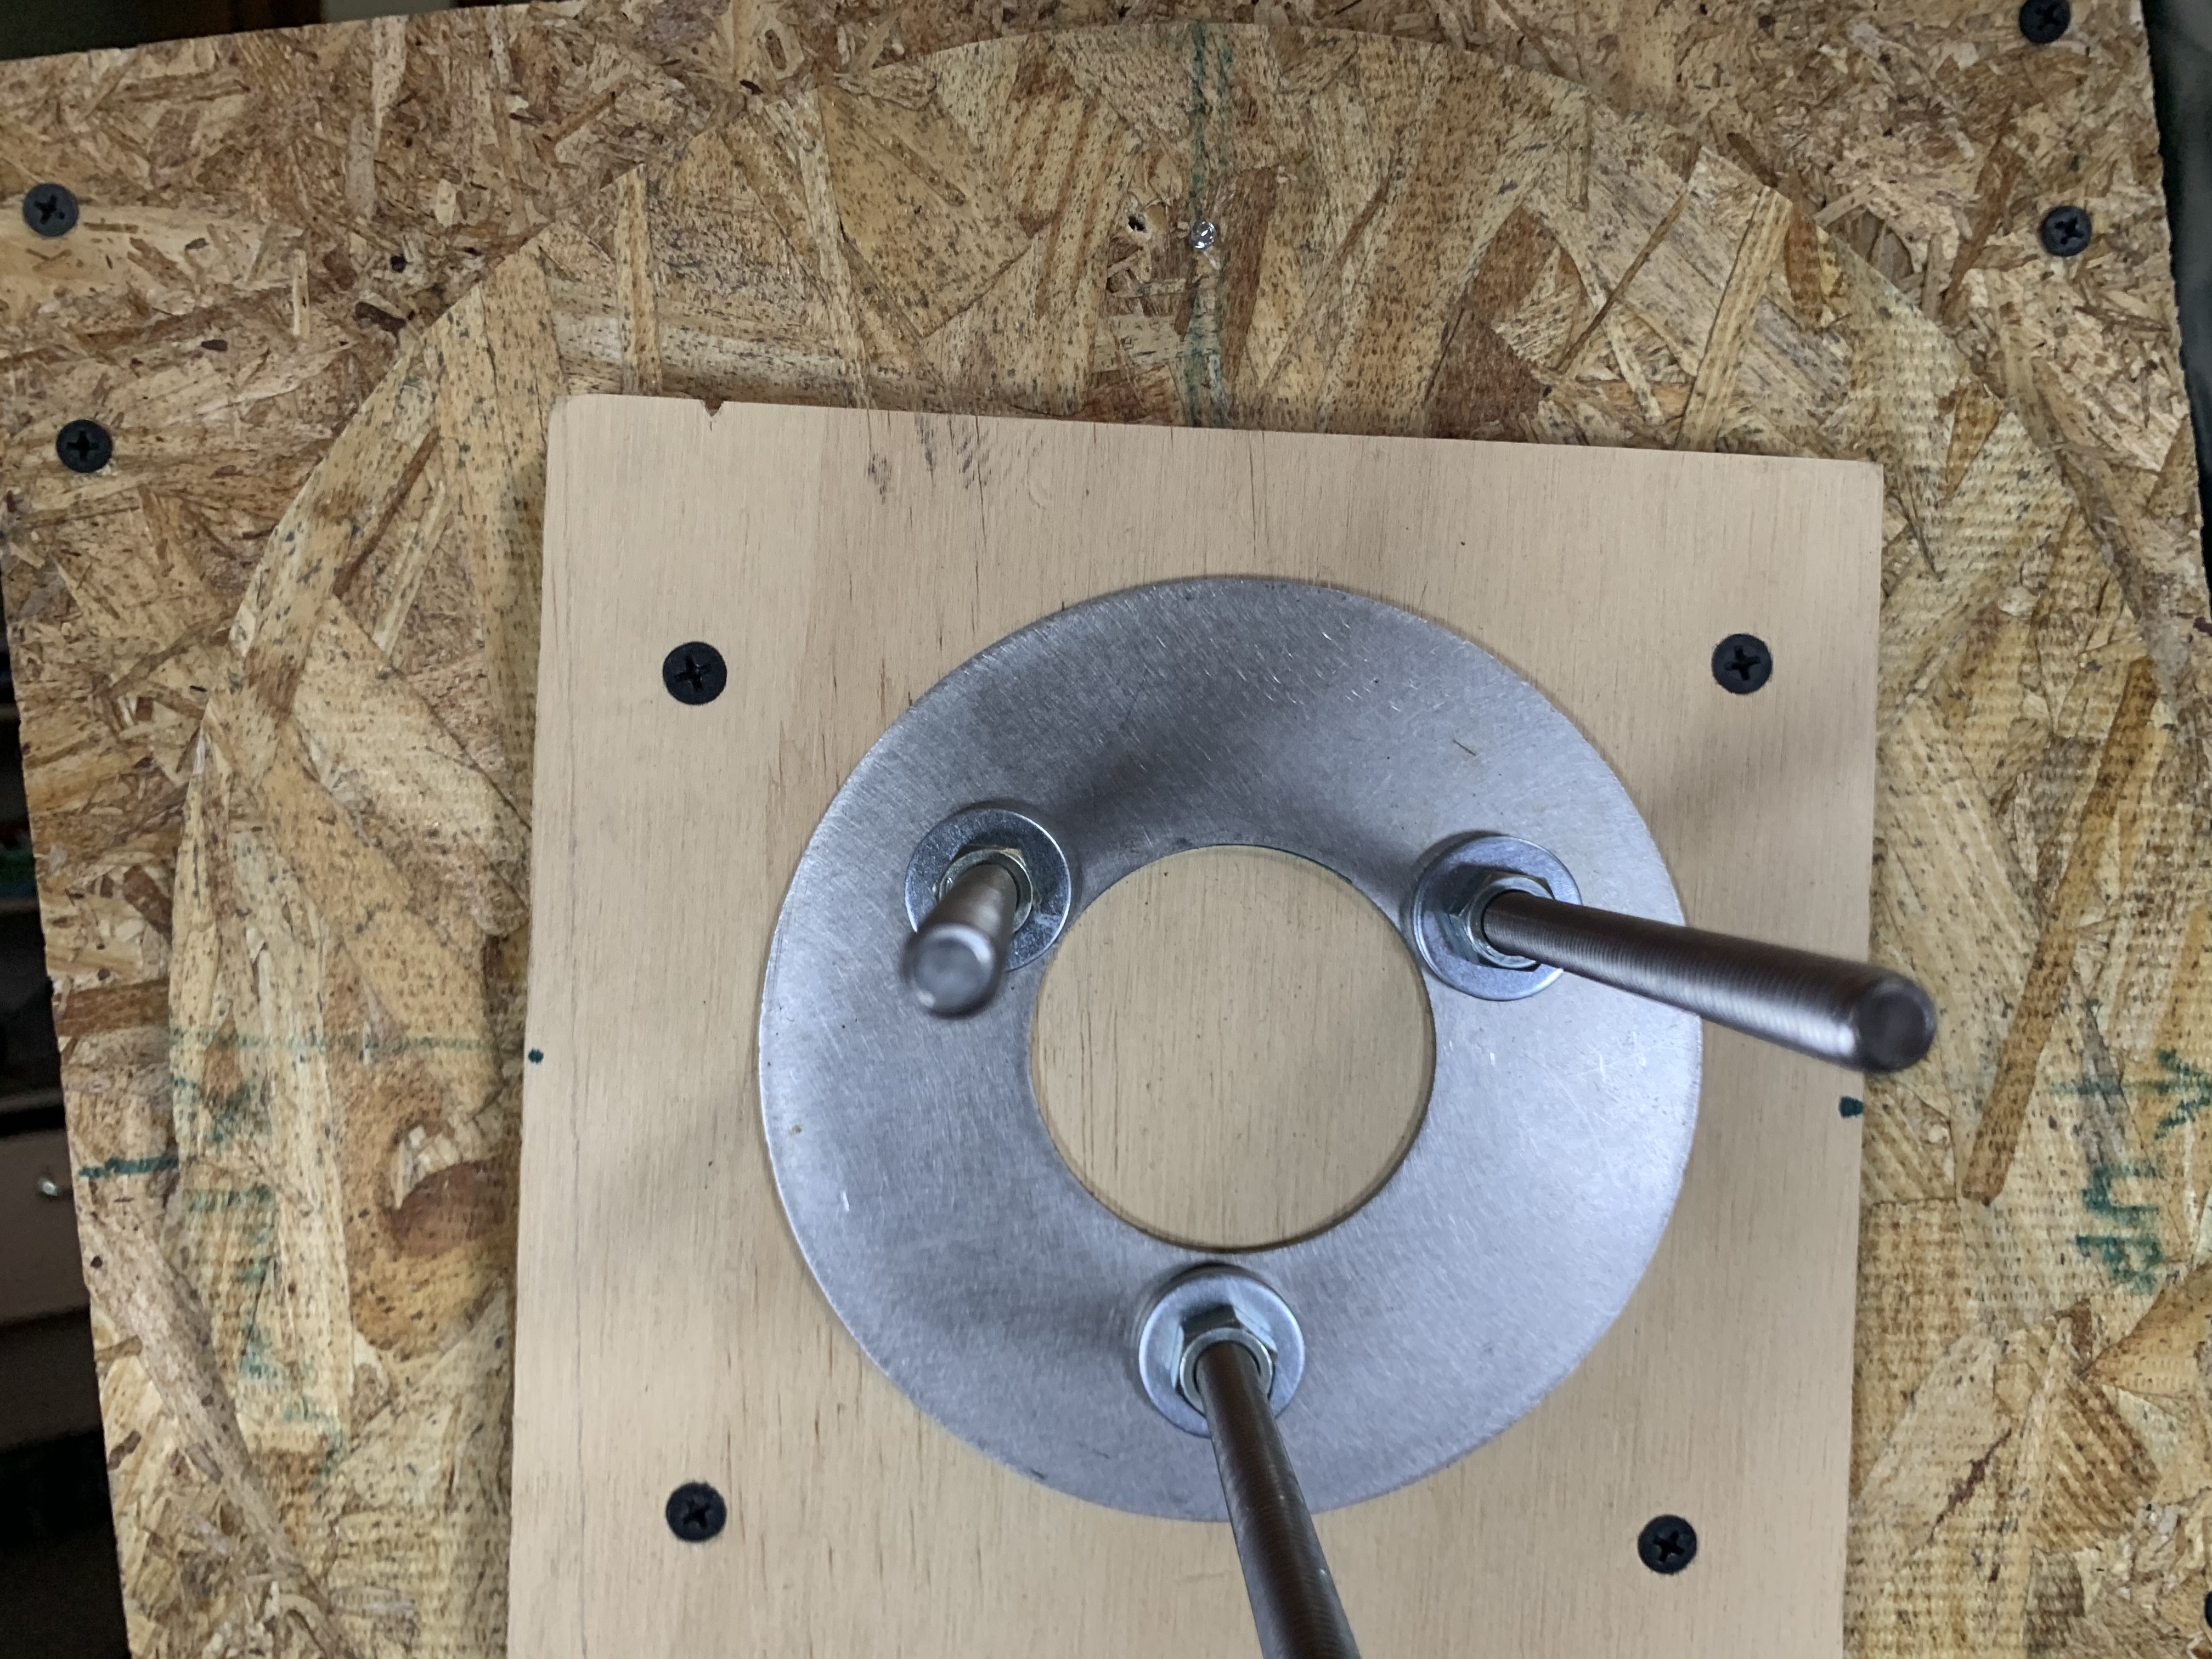bolt: (1129, 1262, 1312, 1445), (897, 798, 1080, 979), (1409, 830, 1580, 1006)
